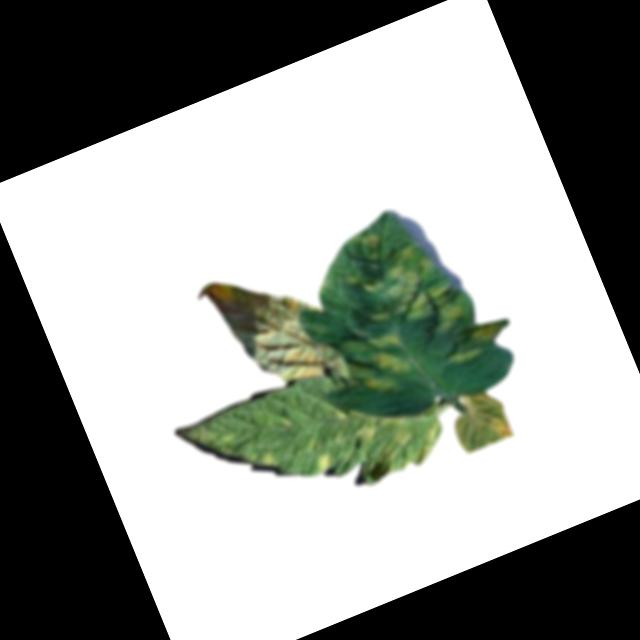Leaf_Mold: (203, 247, 343, 401), (345, 236, 469, 357), (350, 393, 448, 484), (337, 317, 419, 399), (444, 386, 517, 456), (444, 315, 512, 369), (253, 438, 283, 473), (309, 446, 340, 476), (356, 227, 381, 248)
